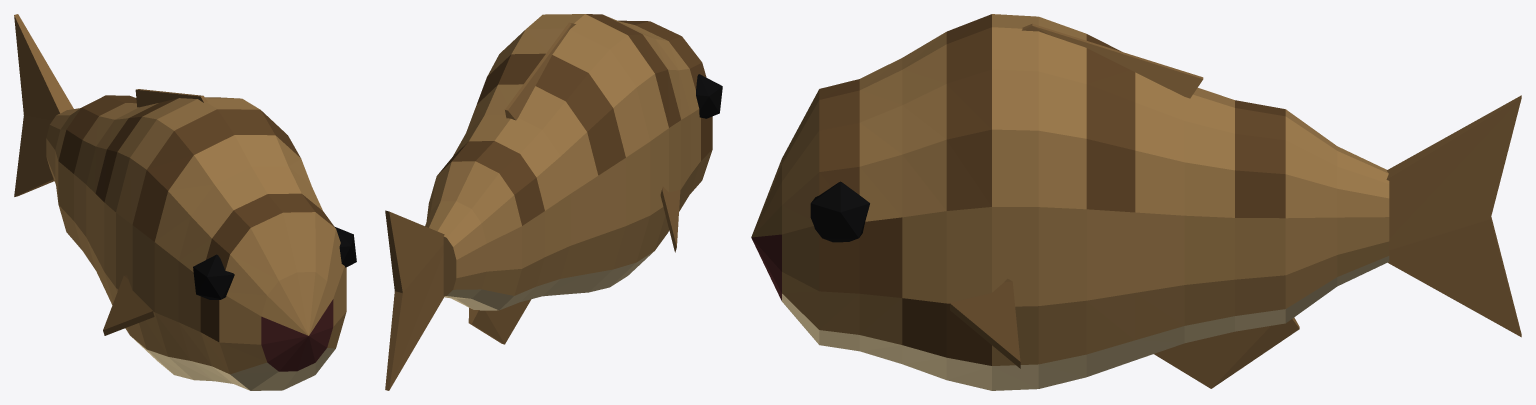
The model's file is FoeTank.obj.
The picture shows the model from 3 angles, left to right: view 1: azimuth 30°, elevation 25°; view 2: azimuth 150°, elevation 25°; view 3: azimuth 270°, elevation 25°; orthographic projection. The views are drawn at different scales.
Parts seen in each view (by area): view 1: FoeTank; view 2: FoeTank; view 3: FoeTank.
Part boxes in pixels (<box>): FoeTank: <box>14,14,356,390</box>; FoeTank: <box>385,14,722,390</box>; FoeTank: <box>751,14,1521,390</box>.
Size of the model in its own units: 0.4048 by 0.5152 by 0.99.
